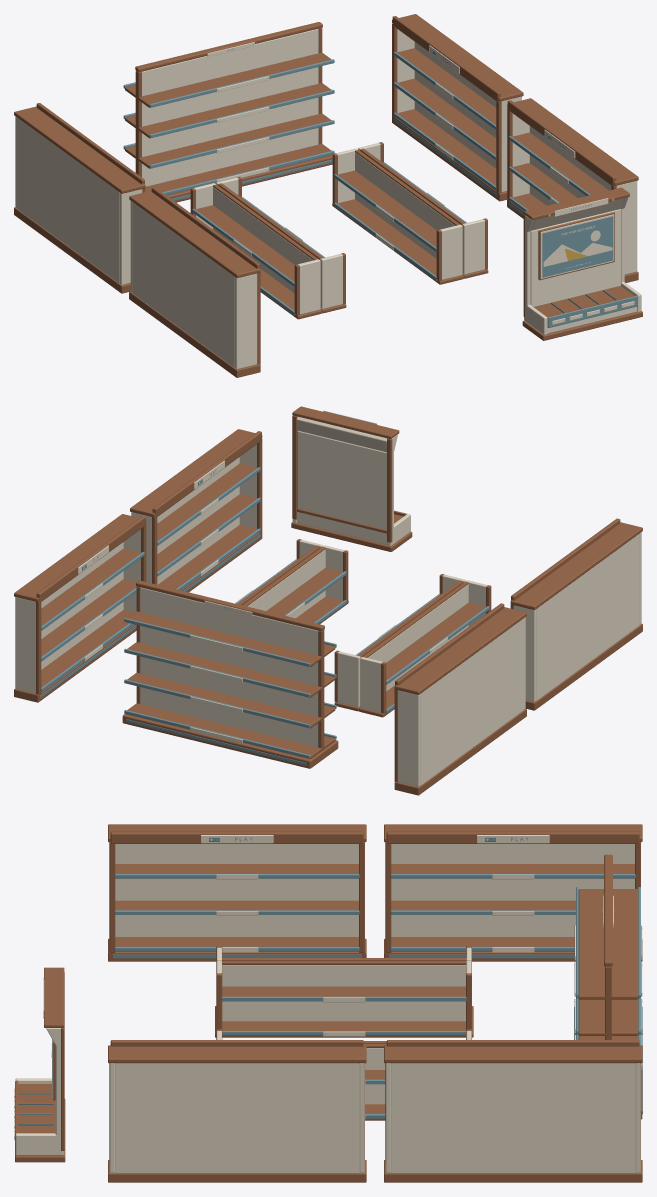
The model's file is CozyGamingStore_ShelfPlaceholders.fbx.
3 views of the same model, one above another, from view 1: azimuth 30°, elevation 25°; view 2: azimuth 150°, elevation 25°; view 3: azimuth 270°, elevation 25° (orthographic). The views are drawn at different scales.
Parts seen in each view (by area): view 1: CST01_FBX_CST01_Shelf_Rear_Archive_Double_Visual, CST01_FBX_CST01_Shelf_Wall_West_1_Visual, CST01_FBX_CST01_Shelf_Wall_West_2_Visual, CST01_FBX_CST01_Shelf_Wall_East_2_Visual, CST01_FBX_CST01_Shelf_Entry_Spotlight_Visual, CST01_FBX_CST01_Shelf_Wall_East_1_Visual, CST01_FBX_CST01_Shelf_Island_2_WestFace_Visual, CST01_FBX_CST01_Shelf_Island_1_WestFace_Visual, CST01_FBX_CST01_Shelf_Island_2_EastFace_Visual, CST01_FBX_CST01_Shelf_Island_1_EastFace_Visual, CST01_FBX_CST01_Spotlight_Poster_Mountains; view 2: CST01_FBX_CST01_Shelf_Rear_Archive_Double_Visual, CST01_FBX_CST01_Shelf_Wall_West_2_Visual, CST01_FBX_CST01_Shelf_Wall_East_2_Visual, CST01_FBX_CST01_Shelf_Wall_West_1_Visual, CST01_FBX_CST01_Shelf_Wall_East_1_Visual, CST01_FBX_CST01_Shelf_Entry_Spotlight_Visual, CST01_FBX_CST01_Shelf_Island_1_WestFace_Visual, CST01_FBX_CST01_Shelf_Island_2_WestFace_Visual, CST01_FBX_CST01_Shelf_Island_1_EastFace_Visual, CST01_FBX_CST01_Shelf_Island_2_EastFace_Visual; view 3: CST01_FBX_CST01_Shelf_Wall_East_1_Visual, CST01_FBX_CST01_Shelf_Wall_East_2_Visual, CST01_FBX_CST01_Shelf_Wall_West_1_Visual, CST01_FBX_CST01_Shelf_Wall_West_2_Visual, CST01_FBX_CST01_Shelf_Island_1_EastFace_Visual, CST01_FBX_CST01_Shelf_Rear_Archive_Double_Visual, CST01_FBX_CST01_Shelf_Entry_Spotlight_Visual, CST01_FBX_CST01_Shelf_Island_2_EastFace_Visual, CST01_FBX_CST01_Shelf_Island_1_WestFace_Visual.
Part boxes in pixels (left/top/right/bottom): CST01_FBX_CST01_Shelf_Rear_Archive_Double_Visual: left=123, top=22, right=334, bottom=202; CST01_FBX_CST01_Shelf_Wall_West_1_Visual: left=129, top=187, right=260, bottom=377; CST01_FBX_CST01_Shelf_Wall_West_2_Visual: left=14, top=103, right=145, bottom=293; CST01_FBX_CST01_Shelf_Wall_East_2_Visual: left=392, top=14, right=523, bottom=201; CST01_FBX_CST01_Shelf_Entry_Spotlight_Visual: left=522, top=187, right=642, bottom=340; CST01_FBX_CST01_Shelf_Wall_East_1_Visual: left=507, top=98, right=638, bottom=282; CST01_FBX_CST01_Shelf_Island_2_WestFace_Visual: left=332, top=148, right=463, bottom=284; CST01_FBX_CST01_Shelf_Island_1_WestFace_Visual: left=190, top=183, right=321, bottom=319; CST01_FBX_CST01_Shelf_Island_2_EastFace_Visual: left=358, top=142, right=488, bottom=278; CST01_FBX_CST01_Shelf_Island_1_EastFace_Visual: left=216, top=176, right=346, bottom=313; CST01_FBX_CST01_Spotlight_Poster_Mountains: left=543, top=243, right=612, bottom=266; CST01_FBX_CST01_Shelf_Rear_Archive_Double_Visual: left=122, top=580, right=338, bottom=768; CST01_FBX_CST01_Shelf_Wall_West_2_Visual: left=394, top=603, right=526, bottom=795; CST01_FBX_CST01_Shelf_Wall_East_2_Visual: left=14, top=514, right=146, bottom=702; CST01_FBX_CST01_Shelf_Wall_West_1_Visual: left=510, top=518, right=642, bottom=710; CST01_FBX_CST01_Shelf_Wall_East_1_Visual: left=130, top=429, right=262, bottom=592; CST01_FBX_CST01_Shelf_Entry_Spotlight_Visual: left=291, top=406, right=412, bottom=551; CST01_FBX_CST01_Shelf_Island_1_WestFace_Visual: left=359, top=580, right=491, bottom=717; CST01_FBX_CST01_Shelf_Island_2_WestFace_Visual: left=242, top=545, right=348, bottom=624; CST01_FBX_CST01_Shelf_Island_1_EastFace_Visual: left=334, top=574, right=465, bottom=711; CST01_FBX_CST01_Shelf_Island_2_EastFace_Visual: left=235, top=539, right=322, bottom=605; CST01_FBX_CST01_Shelf_Wall_East_1_Visual: left=108, top=1040, right=366, bottom=1182; CST01_FBX_CST01_Shelf_Wall_East_2_Visual: left=384, top=1040, right=642, bottom=1182; CST01_FBX_CST01_Shelf_Wall_West_1_Visual: left=108, top=824, right=366, bottom=961; CST01_FBX_CST01_Shelf_Wall_West_2_Visual: left=384, top=824, right=642, bottom=961; CST01_FBX_CST01_Shelf_Island_1_EastFace_Visual: left=215, top=961, right=473, bottom=1037; CST01_FBX_CST01_Shelf_Rear_Archive_Double_Visual: left=574, top=854, right=642, bottom=1119; CST01_FBX_CST01_Shelf_Entry_Spotlight_Visual: left=14, top=967, right=65, bottom=1162; CST01_FBX_CST01_Shelf_Island_2_EastFace_Visual: left=363, top=1044, right=386, bottom=1120; CST01_FBX_CST01_Shelf_Island_1_WestFace_Visual: left=215, top=946, right=473, bottom=1020.
Bounding box in the file's own units: 11.9 × 3.71 × 13.45.
